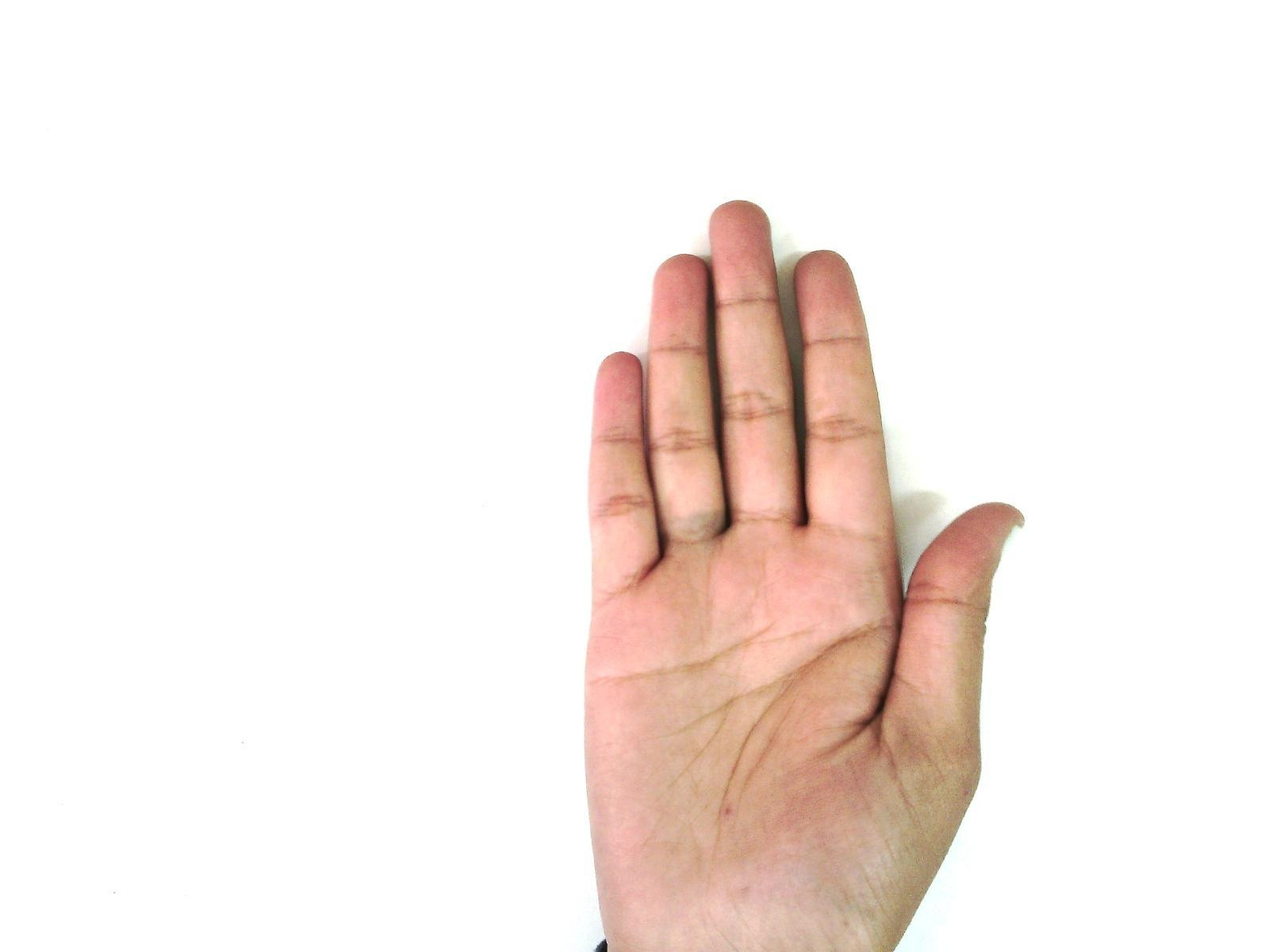open_palm: (579, 199, 1027, 951)
